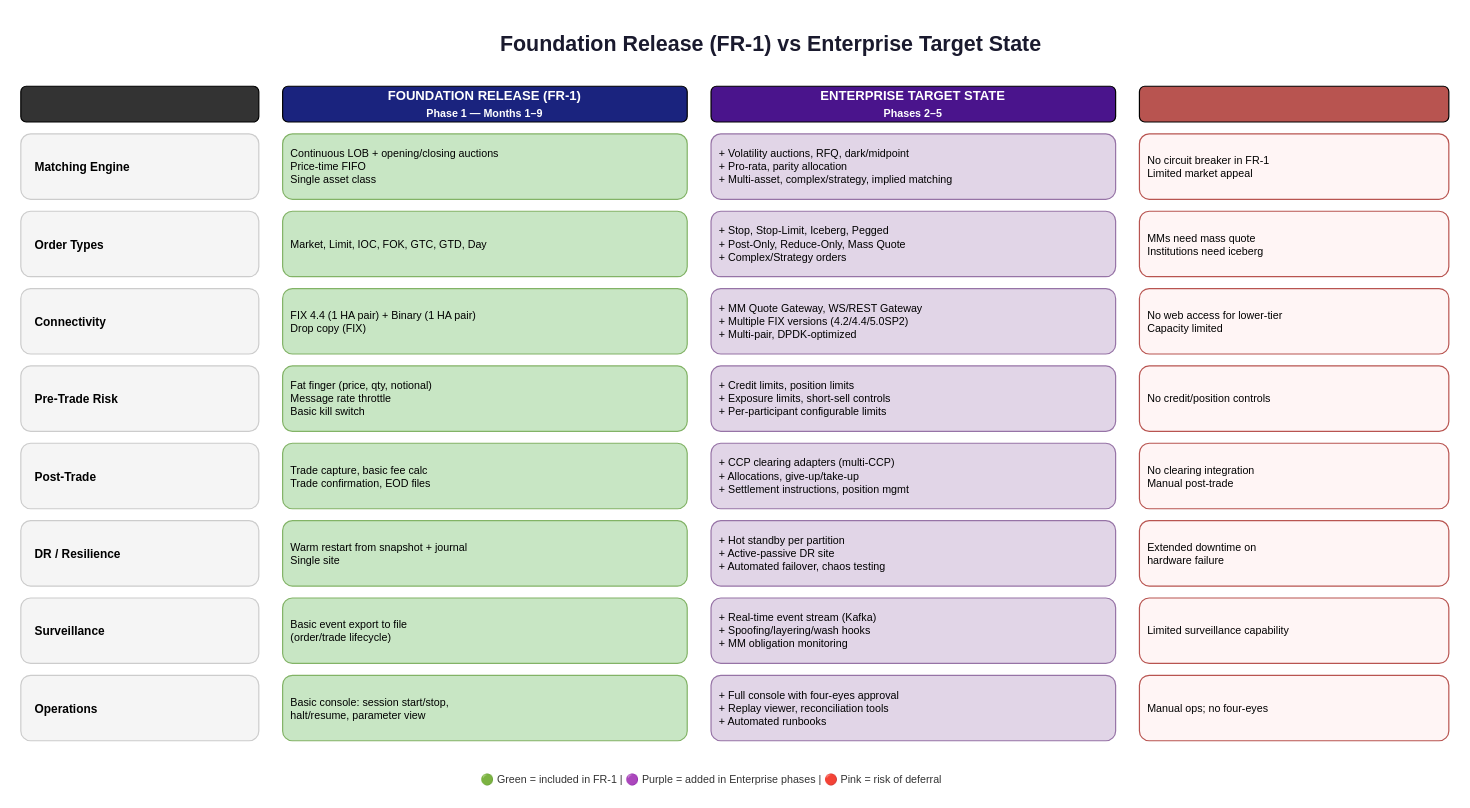
The diagram is 1470 pixels wide and 808 high, and some of its shapes have lost their labels. Each missing label, with the centre of its shape:
"DEFERRED RISK" goes at pixel 1293 103.
"FEATURE AREA" goes at pixel 139 103.
